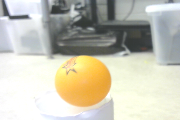PingPongBall: (55, 56, 111, 108)
